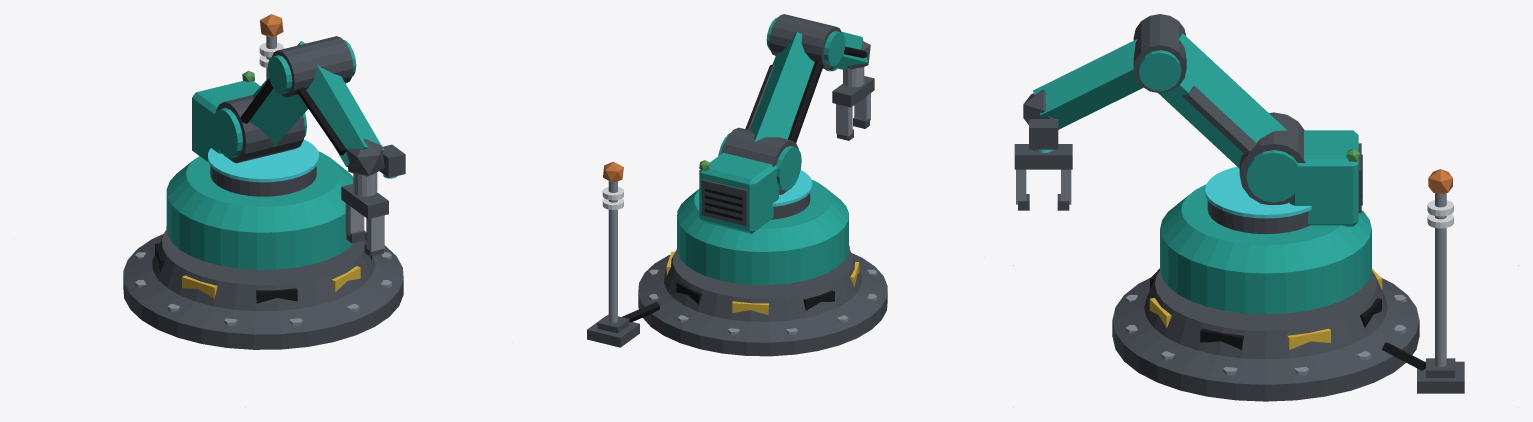
File: bras_t3.glb
3 renders of one model, left to right at view 1: azimuth 30°, elevation 25°; view 2: azimuth 150°, elevation 25°; view 3: azimuth 270°, elevation 25°, orthographic. The views are drawn at different scales.
Visible parts, largest first — view 1: socle_embase.004, tourelle_corps.004, tourelle_acier_sombre.006, tourelle_bras_t3.002, tourelle_cyan.002, tourelle_acier.006, tourelle_noir.006, socle_acier.006, socle_jaune.004, socle_noir.006; view 2: socle_embase.004, tourelle_corps.004, tourelle_bras_t3.002, tourelle_acier_sombre.006, socle_acier.006, tourelle_noir.006, tourelle_acier.006, socle_acier_sombre.006, socle_noir.006, tourelle_cyan.002, socle_jaune.004, socle_blanc.004; view 3: socle_embase.004, tourelle_bras_t3.002, tourelle_corps.004, tourelle_acier_sombre.006, socle_acier.006, tourelle_cyan.002, socle_acier_sombre.006, socle_noir.006, socle_jaune.004, tourelle_acier.006, socle_blanc.004, socle_cuivre.004.
Boxes of the visible parts, <box> form: socle_embase.004: <box>123,229,403,349</box>; tourelle_corps.004: <box>166,151,353,269</box>; tourelle_acier_sombre.006: <box>210,36,405,256</box>; tourelle_bras_t3.002: <box>192,40,384,166</box>; tourelle_cyan.002: <box>208,139,397,182</box>; tourelle_acier.006: <box>345,172,384,251</box>; tourelle_noir.006: <box>240,79,346,155</box>; socle_acier.006: <box>135,35,391,326</box>; socle_jaune.004: <box>166,226,360,298</box>; socle_noir.006: <box>155,232,371,303</box>; socle_embase.004: <box>638,249,887,356</box>; tourelle_corps.004: <box>677,179,848,285</box>; tourelle_bras_t3.002: <box>699,17,867,233</box>; tourelle_acier_sombre.006: <box>701,14,874,225</box>; socle_acier.006: <box>608,181,877,335</box>; tourelle_noir.006: <box>705,46,867,220</box>; tourelle_acier.006: <box>836,67,870,136</box>; socle_acier_sombre.006: <box>587,314,639,347</box>; socle_noir.006: <box>622,246,849,322</box>; tourelle_cyan.002: <box>772,68,837,206</box>; socle_jaune.004: <box>666,251,859,315</box>; socle_blanc.004: <box>602,187,623,209</box>; socle_embase.004: <box>1112,270,1419,401</box>; tourelle_bras_t3.002: <box>1033,33,1358,226</box>; tourelle_corps.004: <box>1160,184,1371,314</box>; tourelle_acier_sombre.006: <box>1014,14,1361,234</box>; socle_acier.006: <box>1125,193,1446,375</box>; tourelle_cyan.002: <box>1036,149,1311,218</box>; socle_acier_sombre.006: <box>1417,358,1464,393</box>; socle_noir.006: <box>1150,268,1425,370</box>; socle_jaune.004: <box>1149,268,1382,349</box>; tourelle_acier.006: <box>1016,149,1071,204</box>; socle_blanc.004: <box>1427,200,1453,228</box>; socle_cuivre.004: <box>1428,169,1452,193</box>.
Bounding box in the file's own units: 1 × 1 × 1.5.
